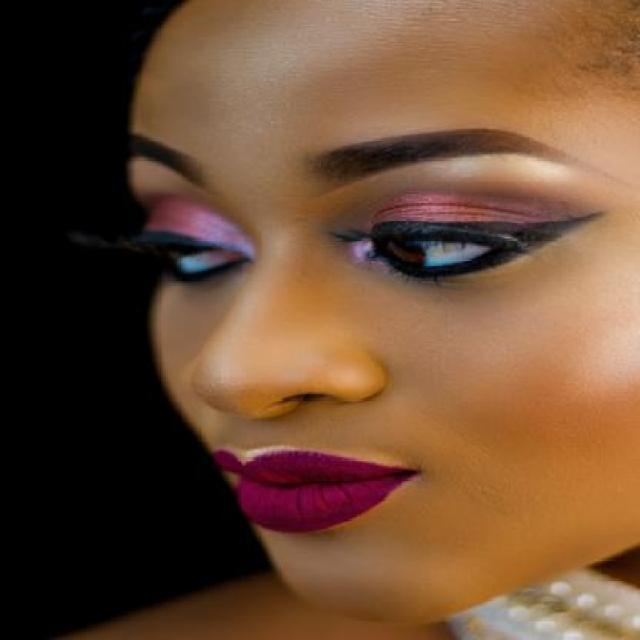closed-mouth: (209, 442, 422, 536)
